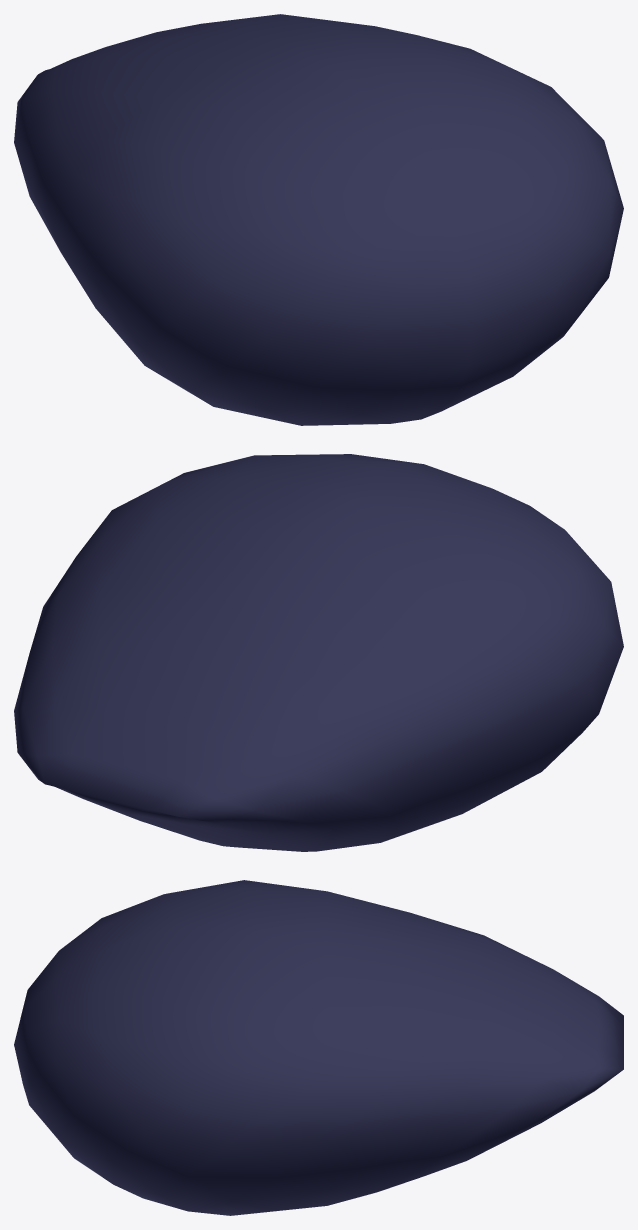
File: C0.Cowl.2e.Export.glb
3 renders of one model, top to bottom at view 1: azimuth 30°, elevation 25°; view 2: azimuth 150°, elevation 25°; view 3: azimuth 270°, elevation 25°, orthographic. The views are drawn at different scales.
Visible parts, largest first — view 1: Icosphere; view 2: Icosphere; view 3: Icosphere.
Part boxes in pixels (box(x1,y1,x2,y2)): Icosphere: box(14, 14, 623, 425); Icosphere: box(14, 454, 623, 851); Icosphere: box(14, 880, 623, 1215).
Size of the model in its own units: 1.56 by 0.9933 by 2.
